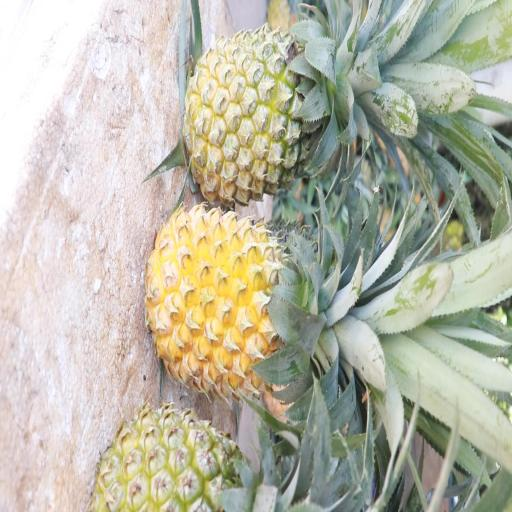------------------------------: (187, 28, 350, 196), (100, 405, 264, 512)
Pineapple - v8 v1: (149, 203, 325, 386)
